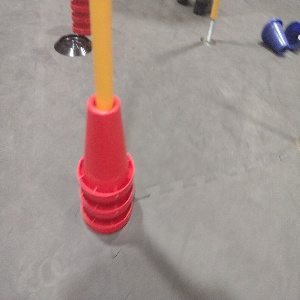Blue_1: (261, 15, 289, 56)
Red_3: (74, 88, 136, 234), (71, 0, 90, 34)
